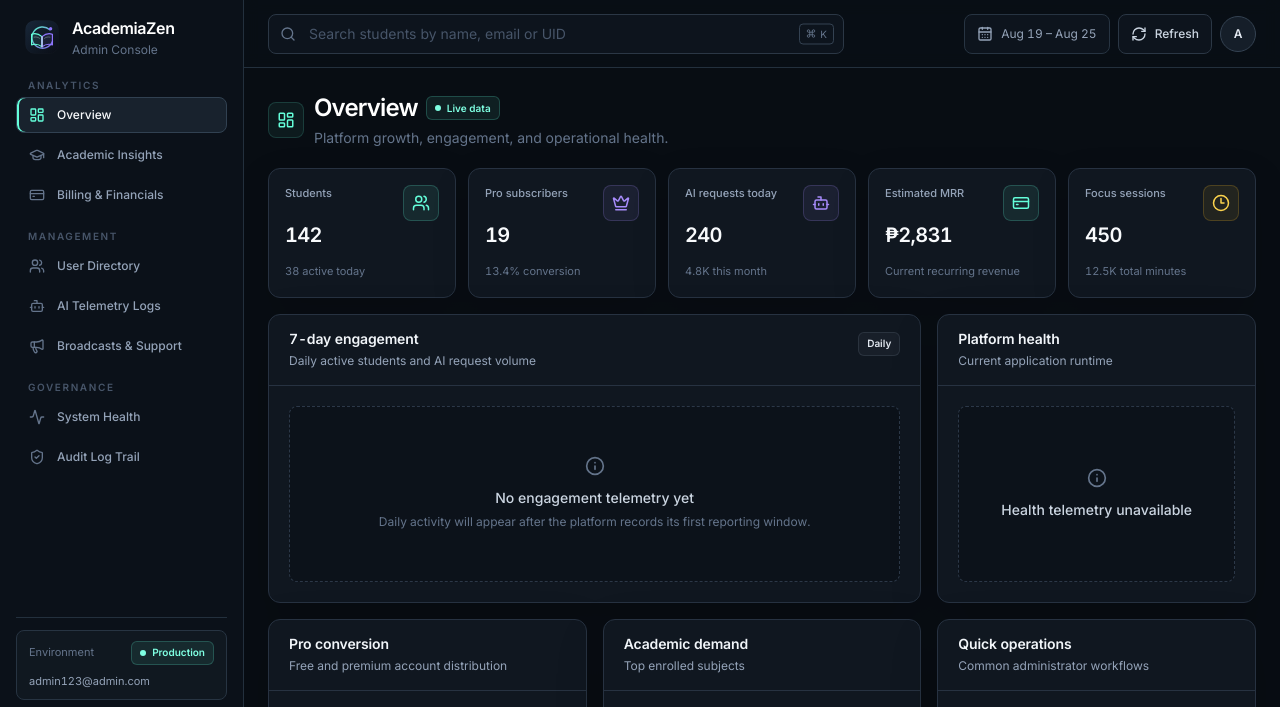
Scenario: Admin Dashboard Component › reuses recently loaded admin tabs until refresh is requested
Click the button "Academic Insights". click: x=122, y=155
box: [16,137,227,173]
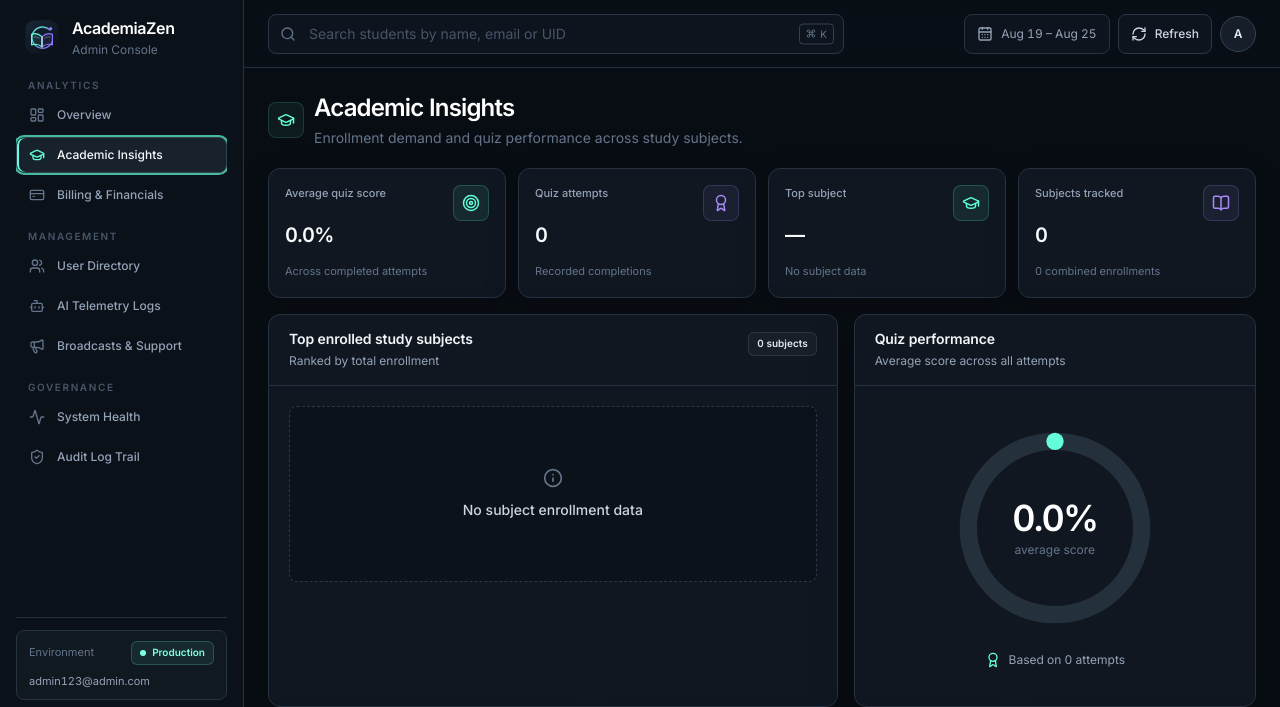
Now the heading "Academic Insights" is shown, box [314,92,514,124]
Click the button "Overview". click: x=122, y=115
box: [16,97,227,133]
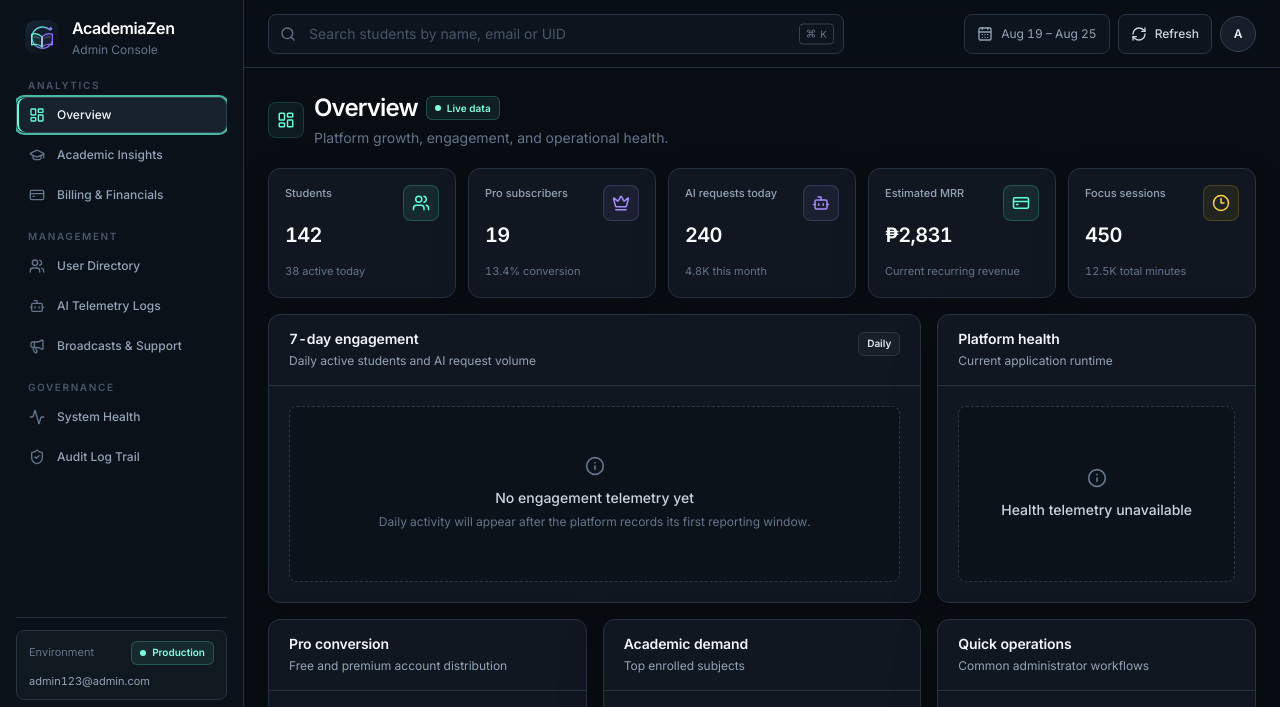
Now the heading "Overview" is shown, box [314,92,418,124]
Click the button "Academic Insights". click: x=122, y=155
box: [16,137,227,173]
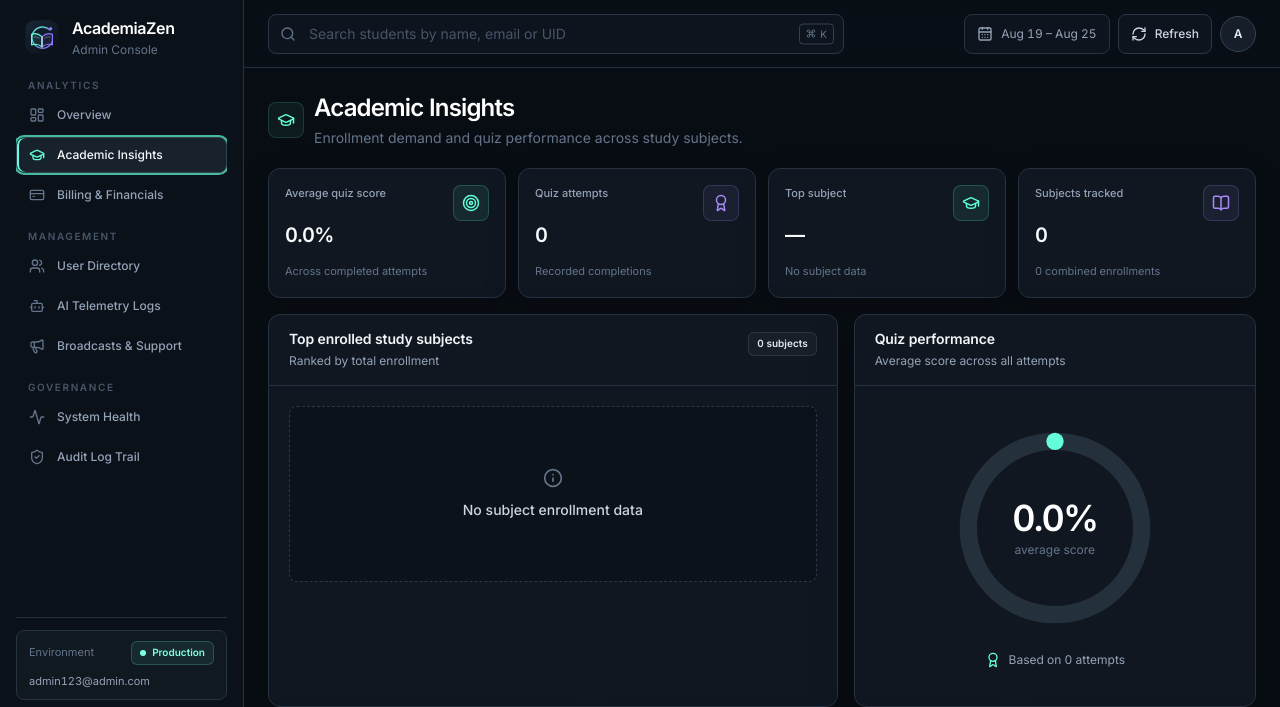
Now the heading "Academic Insights" is shown, box [314,92,514,124]
